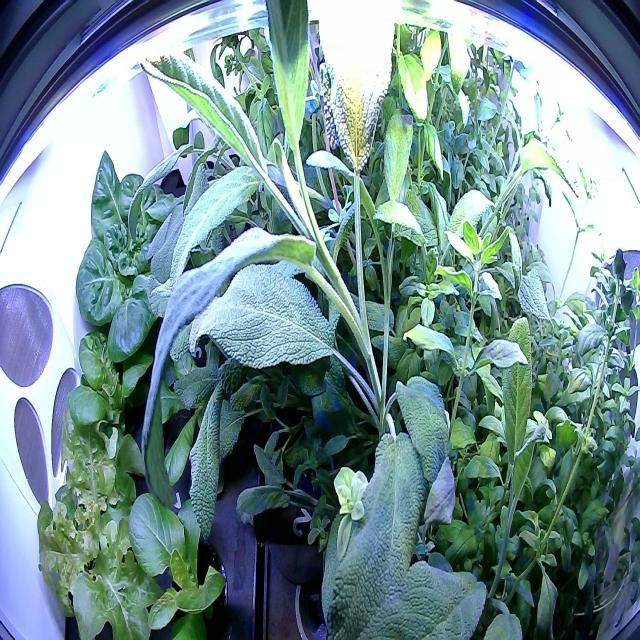Ready: (57, 143, 215, 371)
young: (50, 316, 168, 496), (120, 470, 240, 638)
